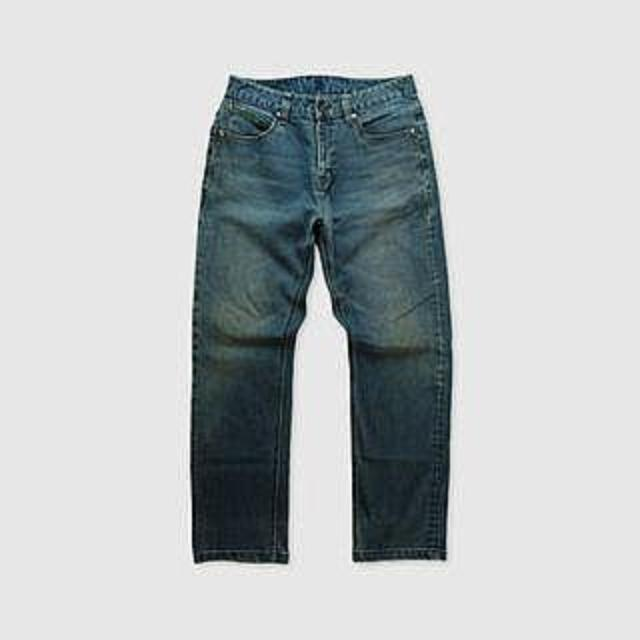TROUSER: (156, 59, 499, 578)
